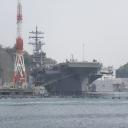Portanaves: (27, 24, 106, 97)
